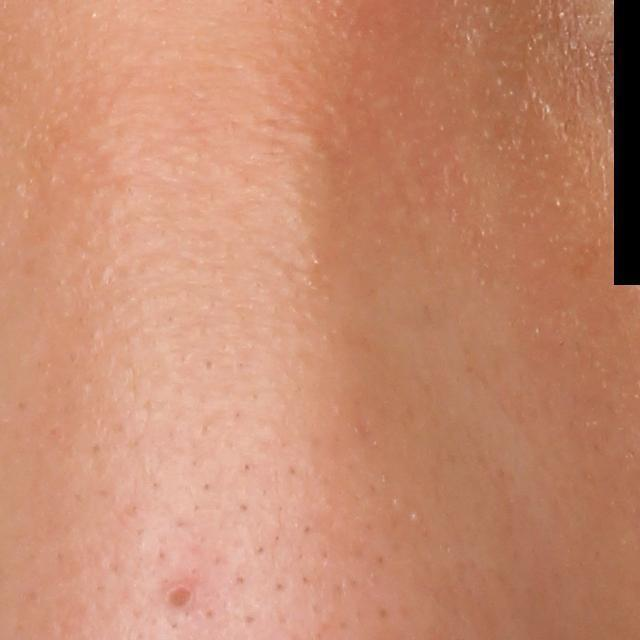comedo: (162, 580, 197, 610)
